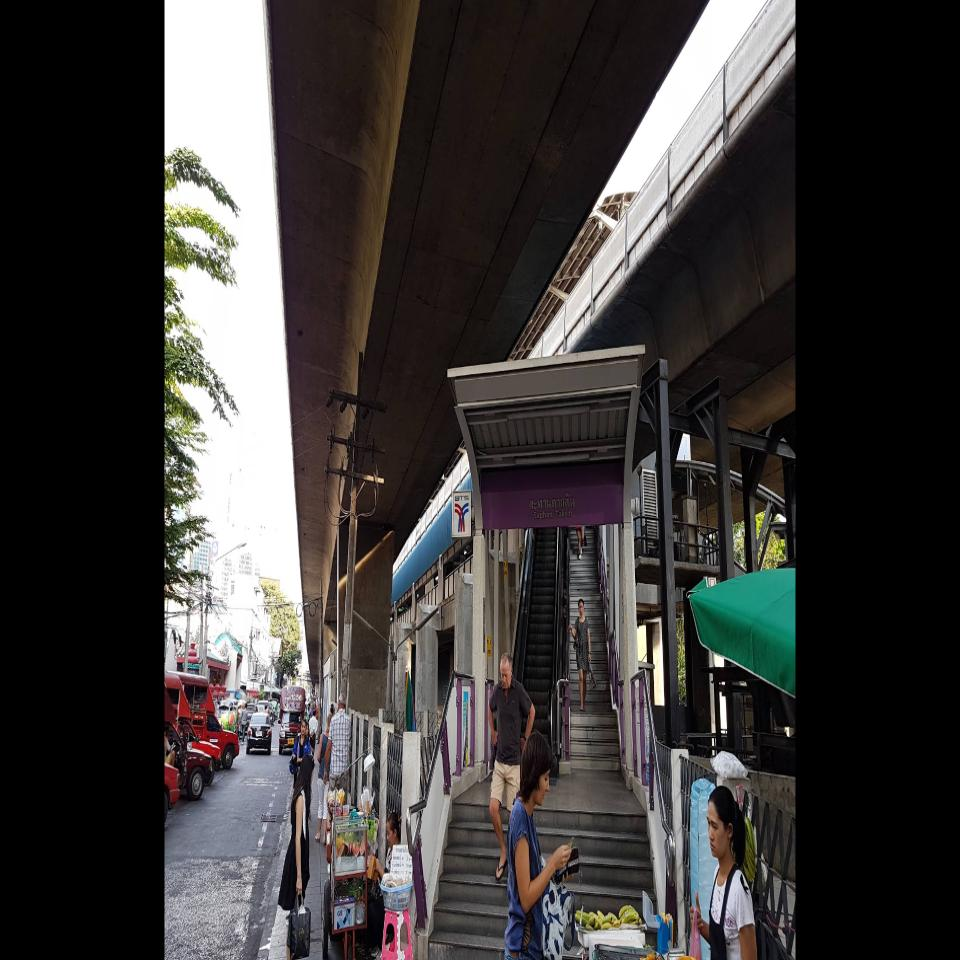signage: (452, 482, 624, 538), (480, 482, 624, 530)
